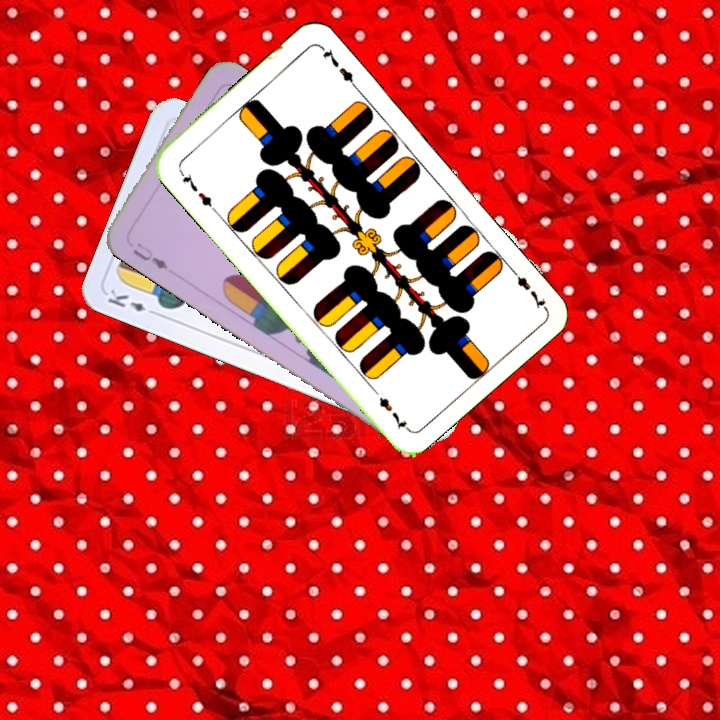E7: (505, 262, 549, 312), (175, 165, 218, 214)
EK: (103, 285, 161, 319)
EU: (129, 238, 171, 272)
